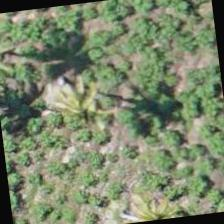Kelapa_Sawit: (32, 60, 132, 160)
